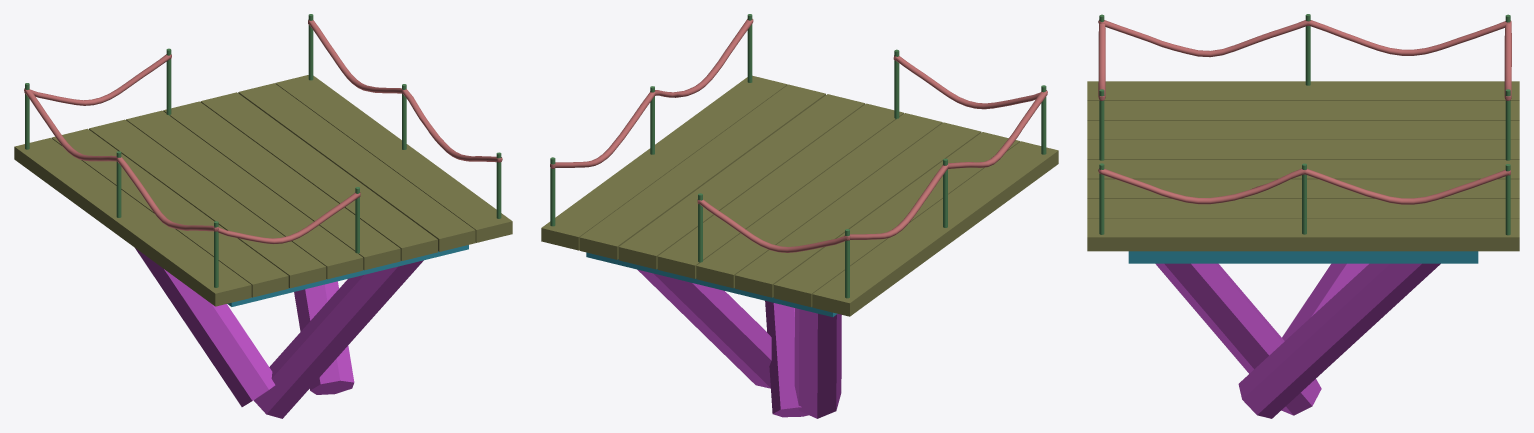
Rendered from plateforme_ok_2.fbx.
3 renders of one model, left to right at view 1: azimuth 30°, elevation 25°; view 2: azimuth 150°, elevation 25°; view 3: azimuth 270°, elevation 25°, orthographic. The views are drawn at different scales.
Parts seen in each view (by area): view 1: polySurface71; view 2: polySurface71; view 3: polySurface71.
Part boxes in pixels (x1=…): polySurface71: x1=14, y1=14, x2=512, y2=418; polySurface71: x1=541, y1=14, x2=1058, y2=418; polySurface71: x1=1087, y1=14, x2=1519, y2=418.
Size of the model in its own units: 5.84 by 5.52 by 6.85.
